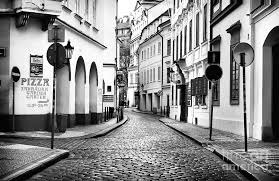strada: (118, 107, 227, 181)
